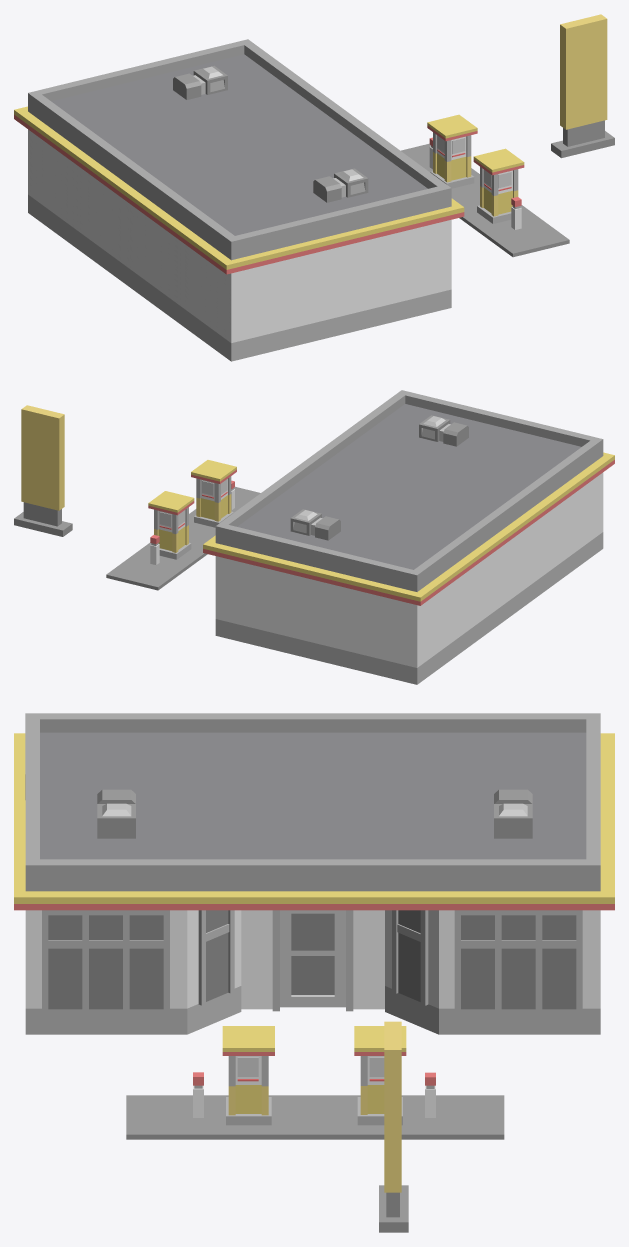
File: gasoline.fbx
3 views of the same model, one above another, from view 1: azimuth 30°, elevation 25°; view 2: azimuth 150°, elevation 25°; view 3: azimuth 270°, elevation 25° (orthographic). The views are drawn at different scales.
Parts seen in each view (by area): view 1: polySurface3736; view 2: polySurface3736; view 3: polySurface3736.
Boxes of the visible parts, box(x1,y1,x2,y2) form: polySurface3736: box(14, 14, 614, 361); polySurface3736: box(14, 390, 614, 684); polySurface3736: box(14, 713, 614, 1232).
Size of the model in its own units: 1003 by 237 by 714.
